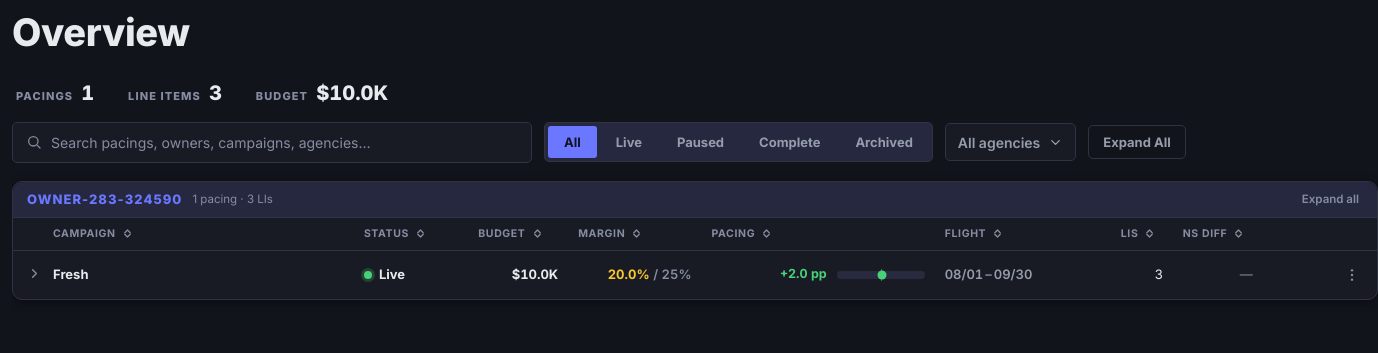
Test: Overview › should say so when an expanded pacing has no line item data
Expected: the text "Fresh" is shown, [53,265,88,284]
Click the button named "Expand Fresh" at (34, 274), box [23,263,45,285]
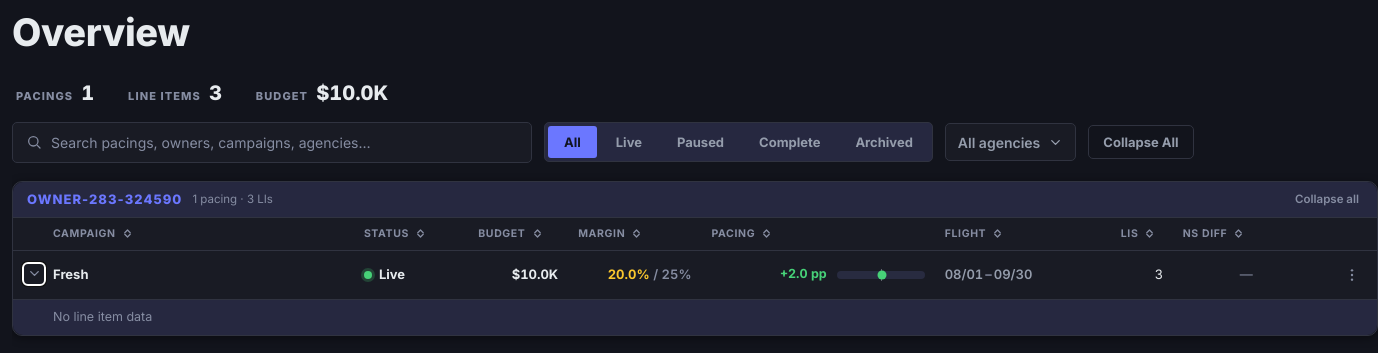
Result: the text "No line item data" is shown at [43,299,1377,335]
